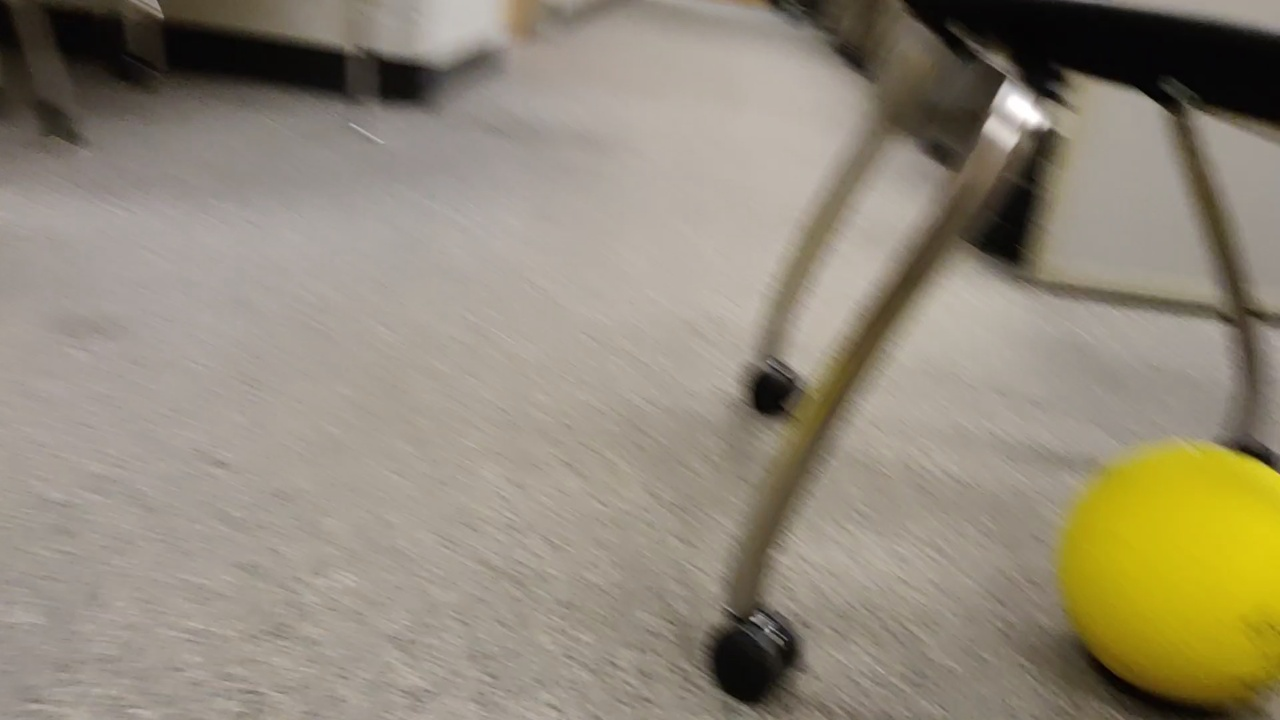Ball: (1062, 439, 1280, 703)
